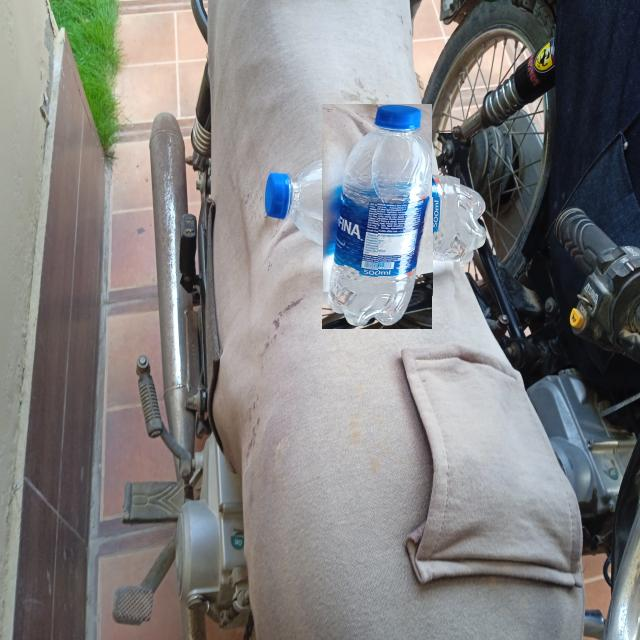Plastic: (292, 133, 460, 300)
